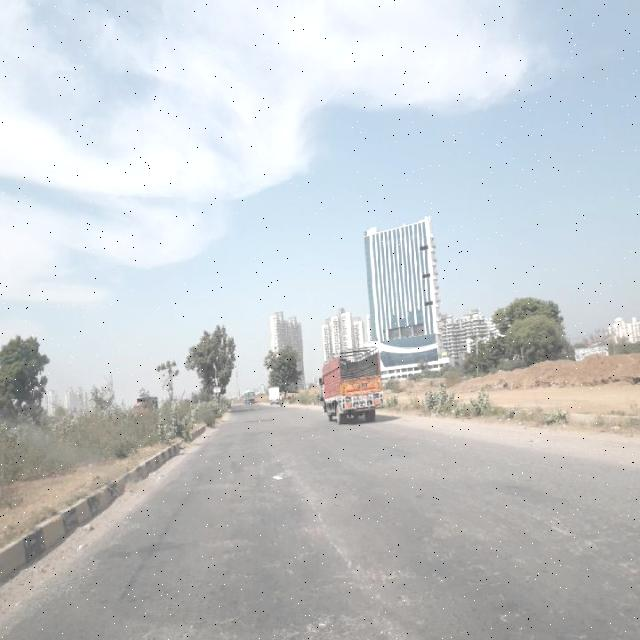D00: (280, 453, 365, 585)
